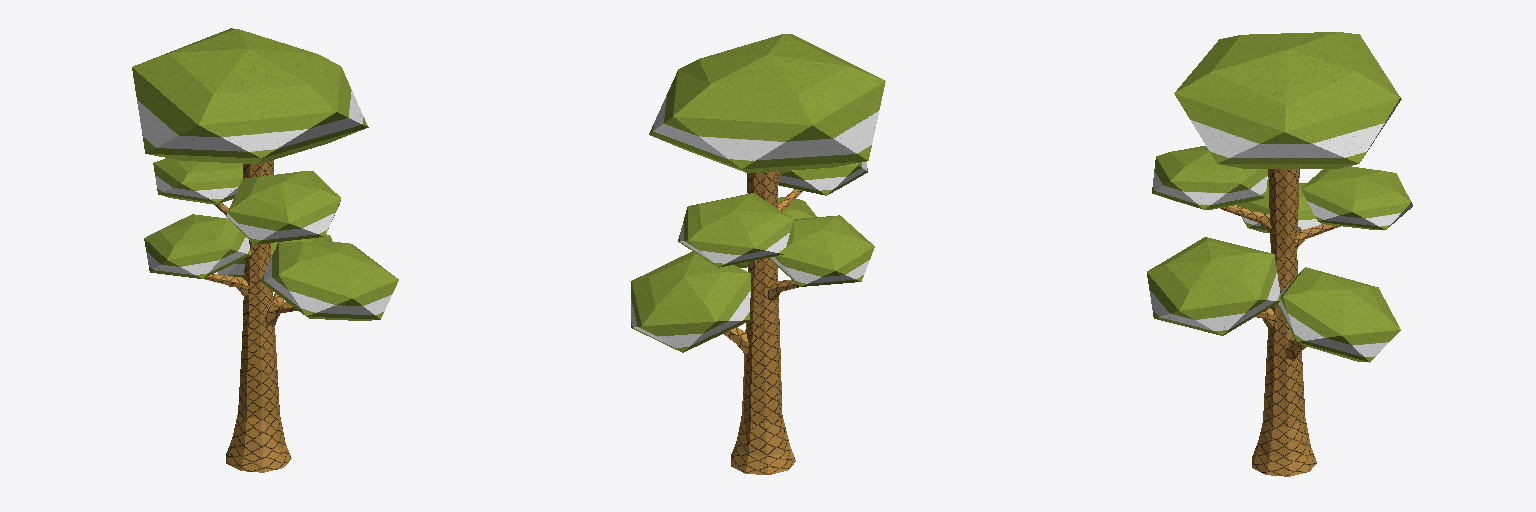
3 renders of one model, left to right at view 1: azimuth 30°, elevation 25°; view 2: azimuth 150°, elevation 25°; view 3: azimuth 270°, elevation 25°, orthographic.
Parts seen in each view (by area): view 1: Icosphere.004, wood.004_Cylinder.003; view 2: Icosphere.004, wood.004_Cylinder.003; view 3: Icosphere.004, wood.004_Cylinder.003.
Part boxes in pixels (x1,y1,x2,y2): Icosphere.004: (132,28,398,320); wood.004_Cylinder.003: (204,160,297,472); Icosphere.004: (631,34,885,352); wood.004_Cylinder.003: (724,171,802,474); Icosphere.004: (1147,32,1412,362); wood.004_Cylinder.003: (1220,169,1340,476).
Bounding box in the file's own units: 1.6 × 2.96 × 1.75.
2 materials, 2 textured.